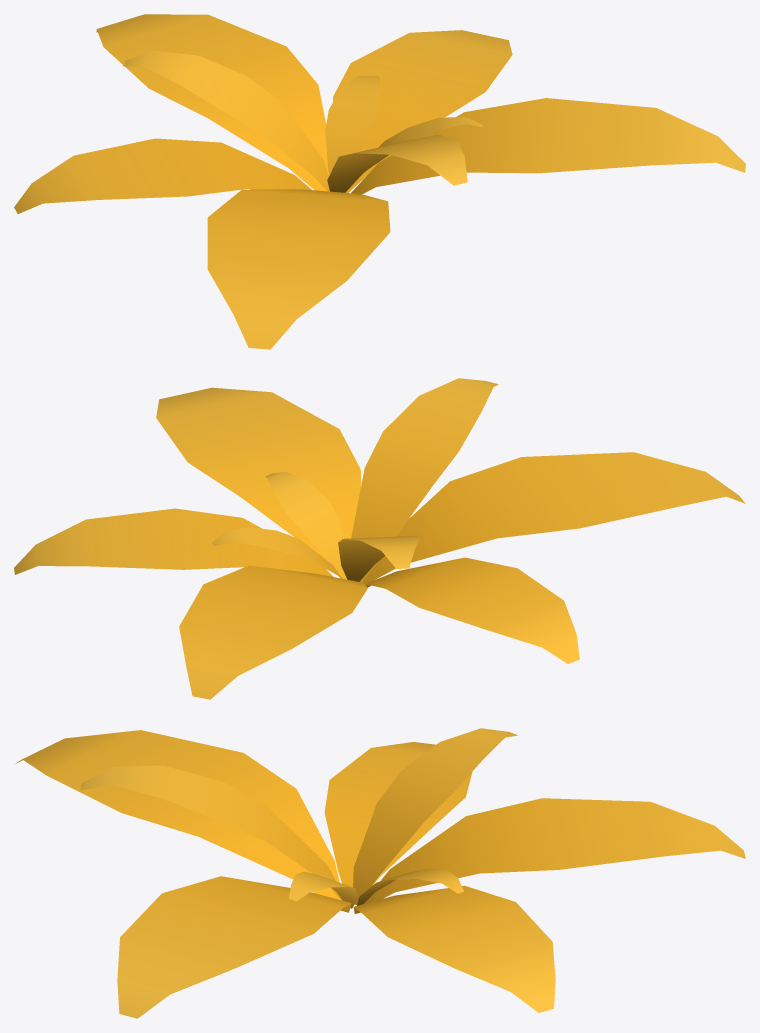
Rendered from plant3_007.fbx.
3 views of the same model, one above another, from view 1: azimuth 30°, elevation 25°; view 2: azimuth 150°, elevation 25°; view 3: azimuth 270°, elevation 25° (orthographic). The views are drawn at different scales.
Parts seen in each view (by area): view 1: plant3.007; view 2: plant3.007; view 3: plant3.007.
Part boxes in pixels (x1,y1,x2,y2): plant3.007: [14, 14, 745, 349]; plant3.007: [14, 378, 745, 699]; plant3.007: [14, 728, 745, 1018].
Bounding box in the file's own units: 37.82 × 7.92 × 40.95.
